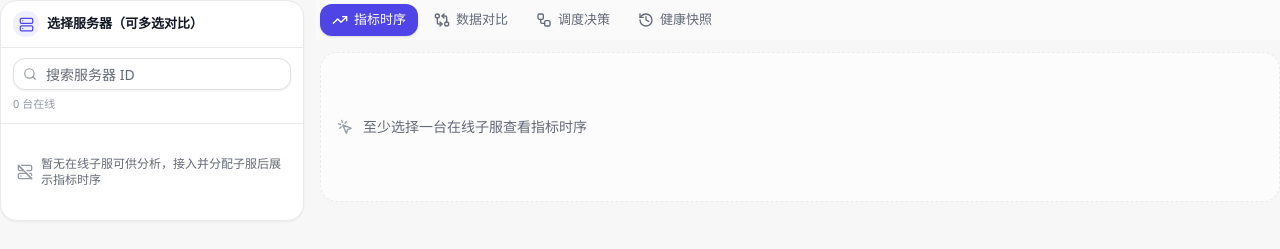
Scenario: /service-analysis 调度决策下钻板块 › 空态给出无调度决策提示
The image size is (1280, 249).
Click the tab "调度决策" at x=573, y=20, box [524,4,622,36]
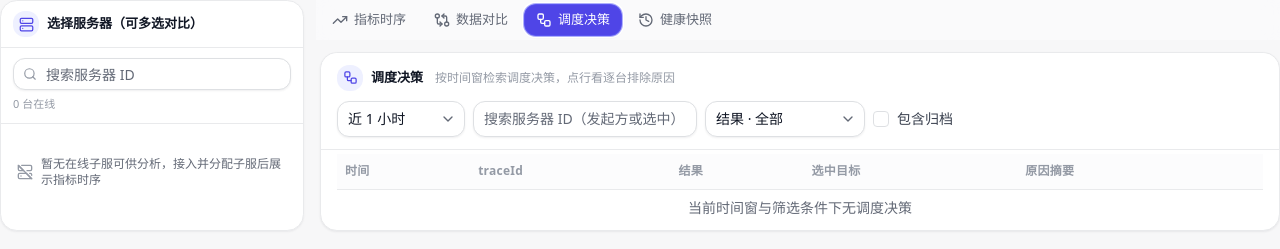
expect the text "当前时间窗与筛选条件下无调度决策" is shown: met, box [337,190,1263,226]
